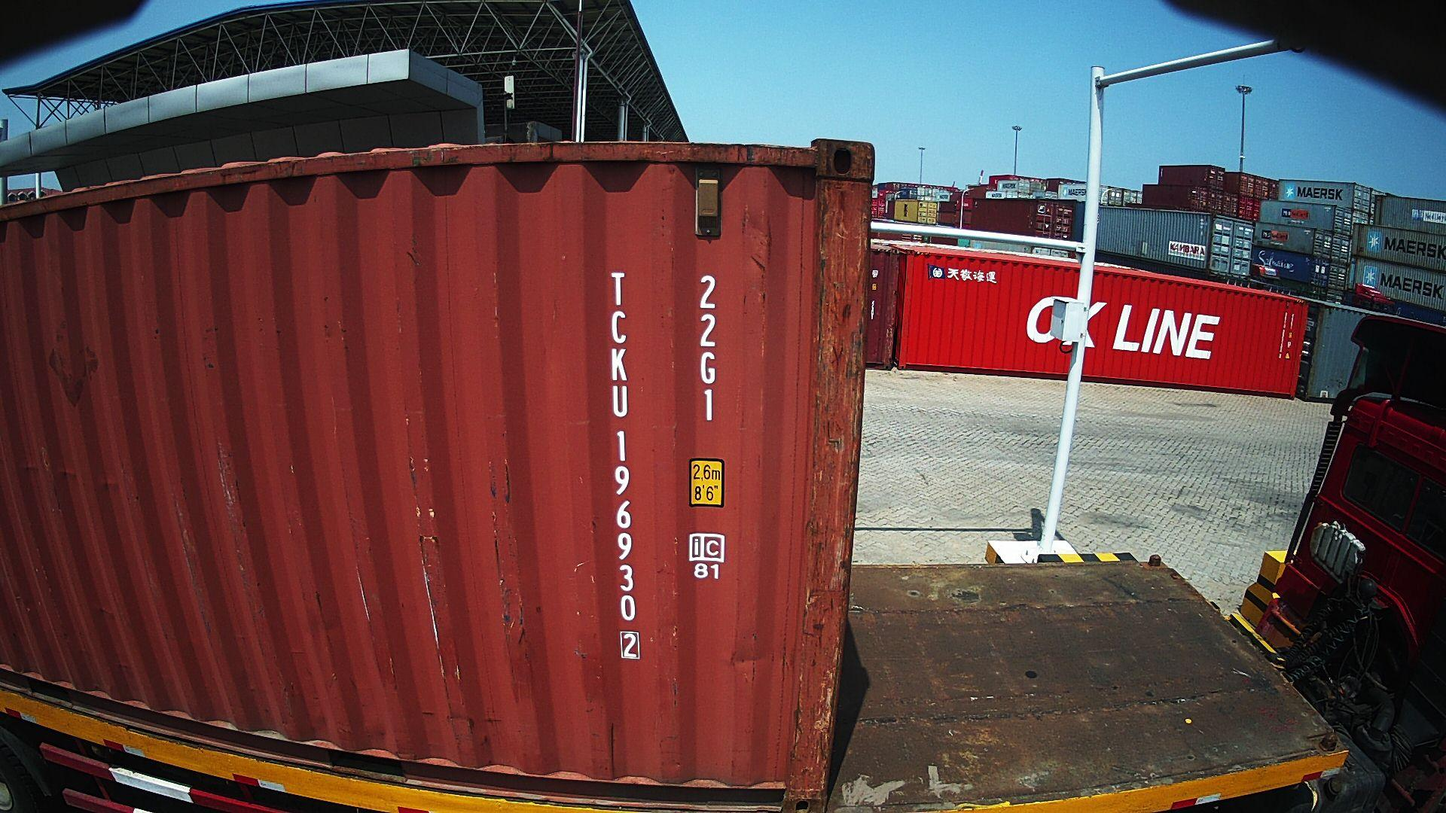container-numbers: (603, 268, 641, 664), (692, 272, 723, 426)
